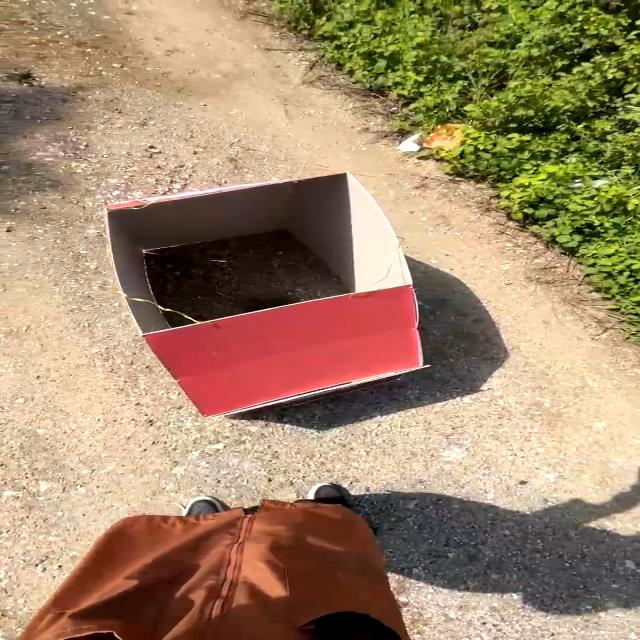red_car: (30, 154, 475, 434)
